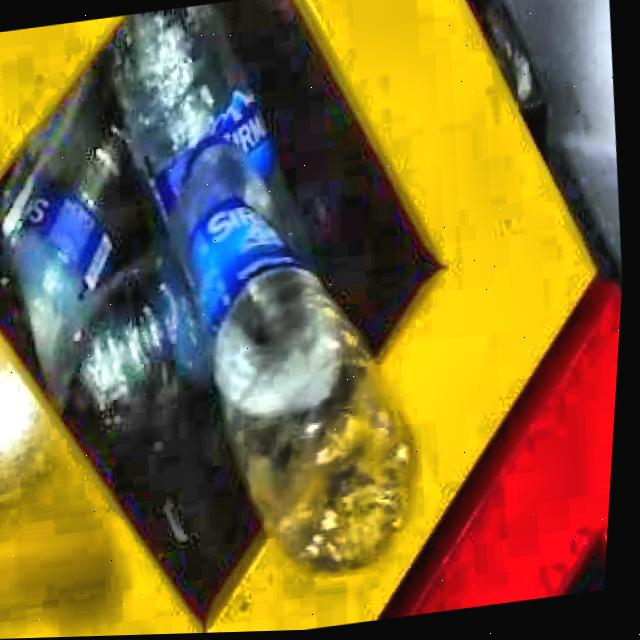plastic: (78, 5, 420, 573)
